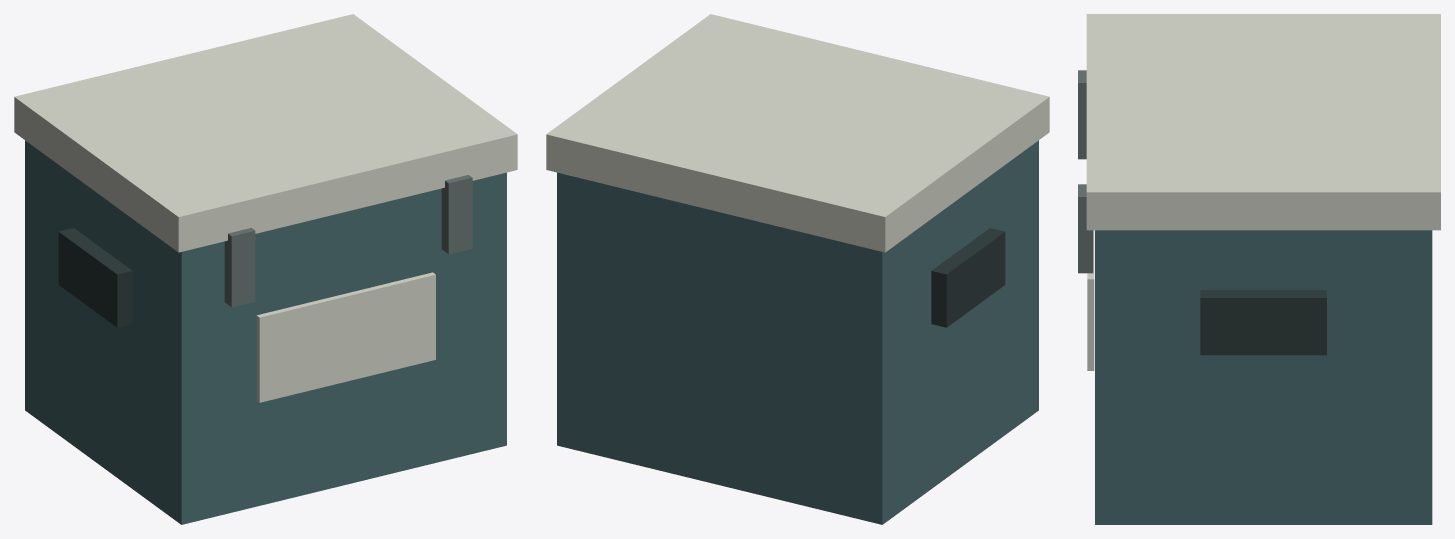
3 renders of one model, left to right at view 1: azimuth 30°, elevation 25°; view 2: azimuth 150°, elevation 25°; view 3: azimuth 270°, elevation 25°, orthographic. The views are drawn at different scales.
Parts seen in each view (by area): view 1: part-1, part-2, part-7, part-3, part-5, part-6; view 2: part-1, part-2, part-3; view 3: part-1, part-2, part-4, part-6, part-7, part-5.
Part boxes in pixels (bbox=[...]): part-1: bbox=[25, 140, 506, 524]; part-2: bbox=[14, 14, 517, 252]; part-7: bbox=[256, 272, 435, 402]; part-3: bbox=[58, 228, 132, 327]; part-5: bbox=[224, 228, 255, 307]; part-6: bbox=[441, 175, 472, 254]; part-1: bbox=[557, 140, 1038, 524]; part-2: bbox=[546, 14, 1049, 252]; part-3: bbox=[931, 228, 1005, 327]; part-1: bbox=[1095, 230, 1432, 524]; part-2: bbox=[1086, 14, 1440, 230]; part-4: bbox=[1200, 290, 1326, 355]; part-6: bbox=[1078, 184, 1093, 273]; part-7: bbox=[1087, 230, 1094, 370]; part-5: bbox=[1078, 70, 1086, 159].
Size of the model in its own units: 0.525 by 0.44 by 0.43.
